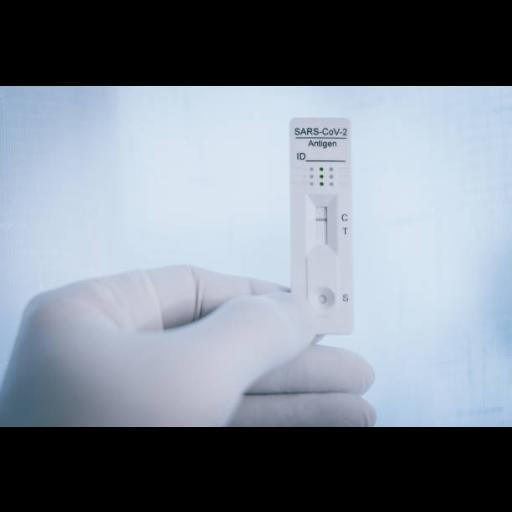Neg: (288, 118, 352, 332)
